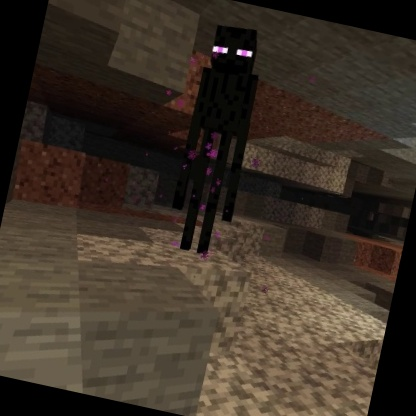enderman: (159, 16, 277, 264)
